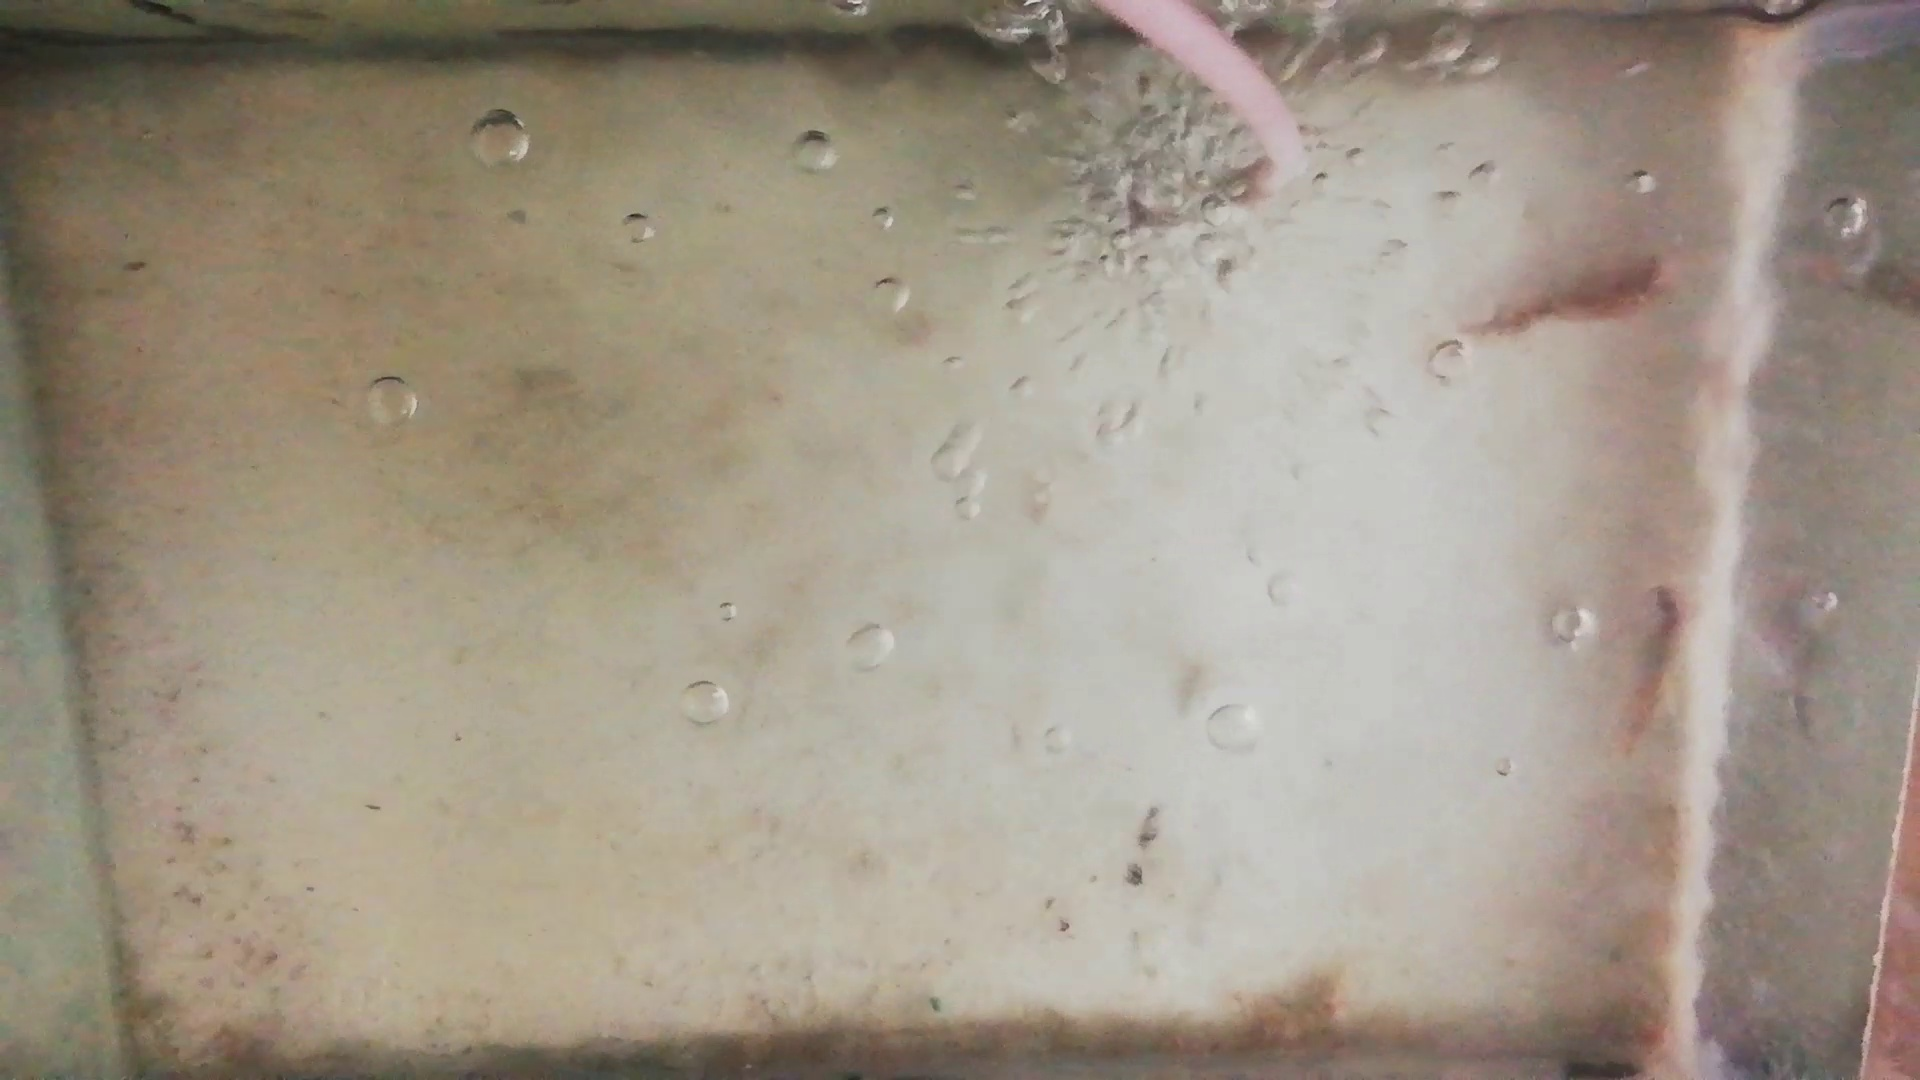fish: (1462, 255, 1677, 342), (1627, 583, 1685, 733)
